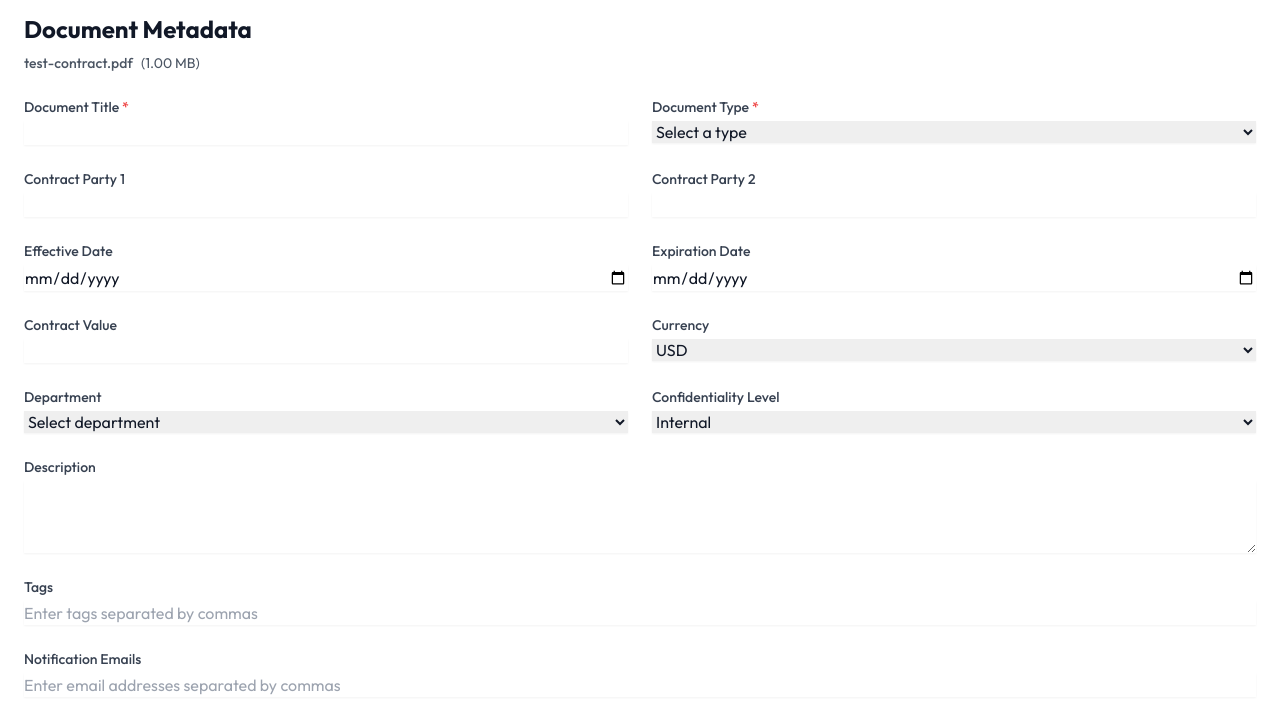
Scenario: MetadataForm › Form Validation › should validate date range
In the date field labelled "Effective Date": (326, 278) x1=24 y1=265 x2=628 y2=291, type "2024-12-31"
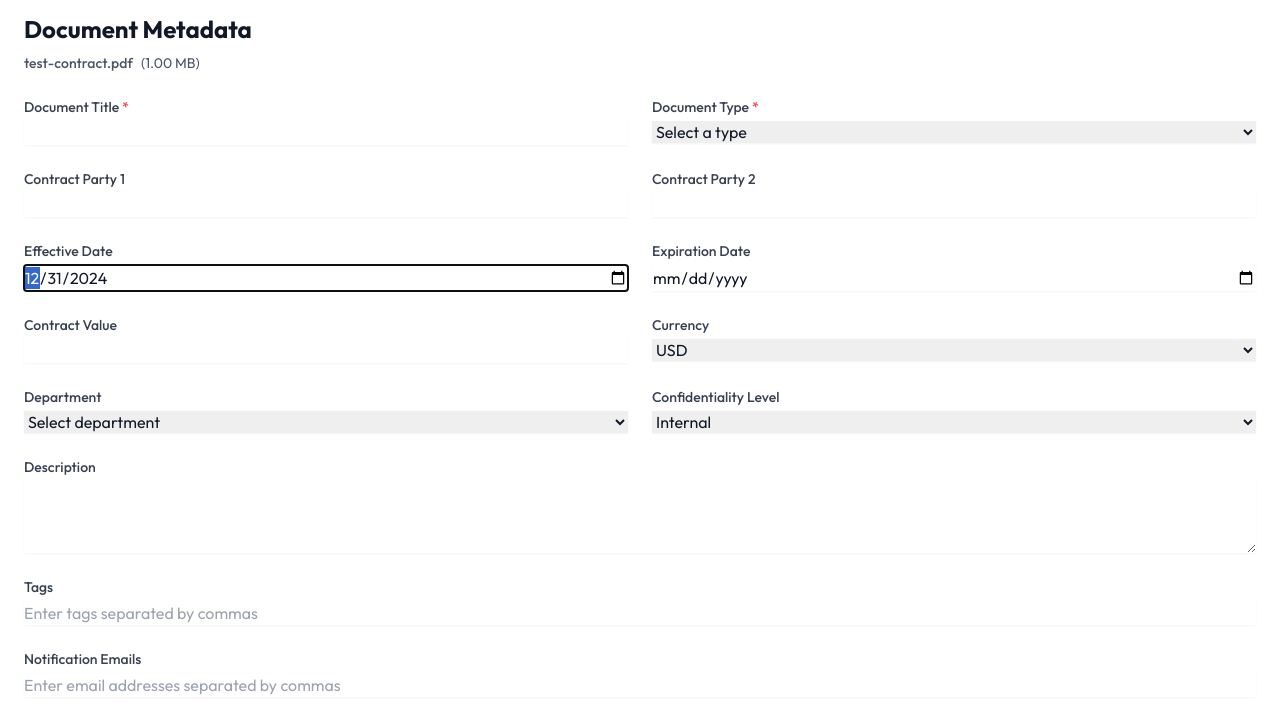
In the date field labelled "Expiration Date": (954, 278) x1=652 y1=265 x2=1256 y2=291, type "2024-01-01"
(page scrolled)
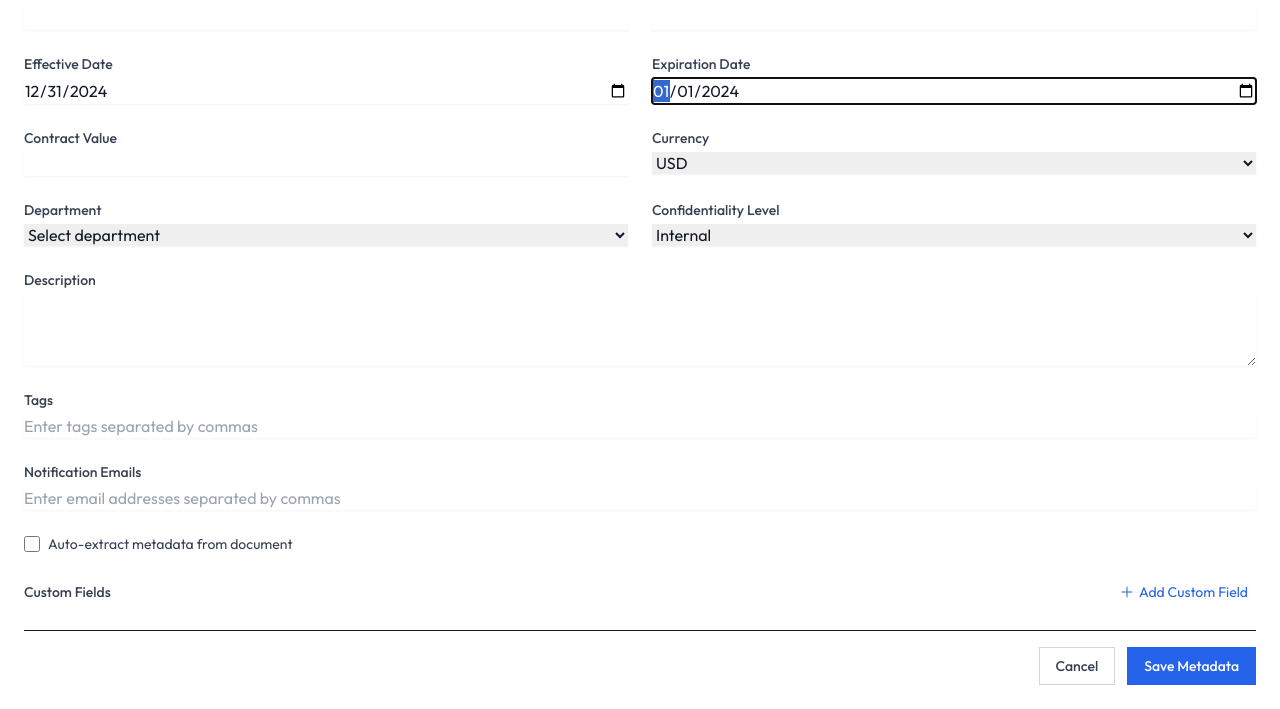
Click the button "Save Metadata": (1192, 666) x1=1127 y1=647 x2=1256 y2=685
(page scrolled)
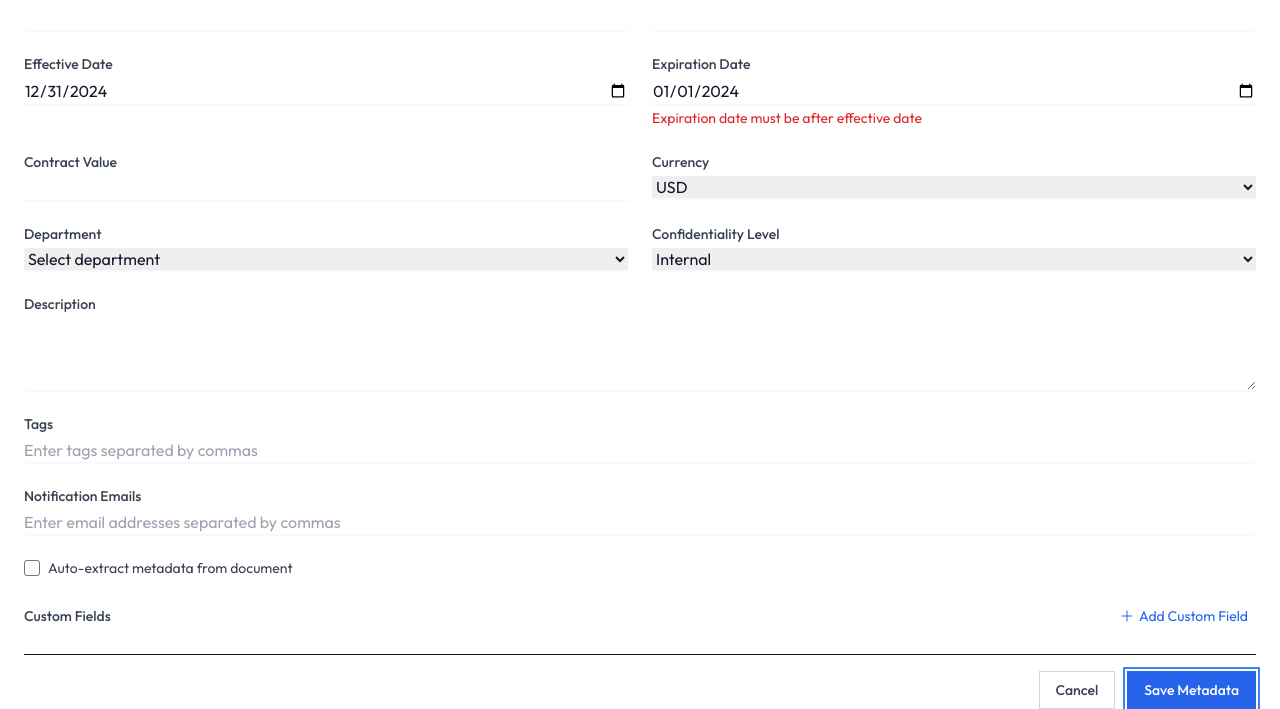
Now the text "Expiration date must be after effective date" is shown, box x1=652 y1=109 x2=922 y2=127
